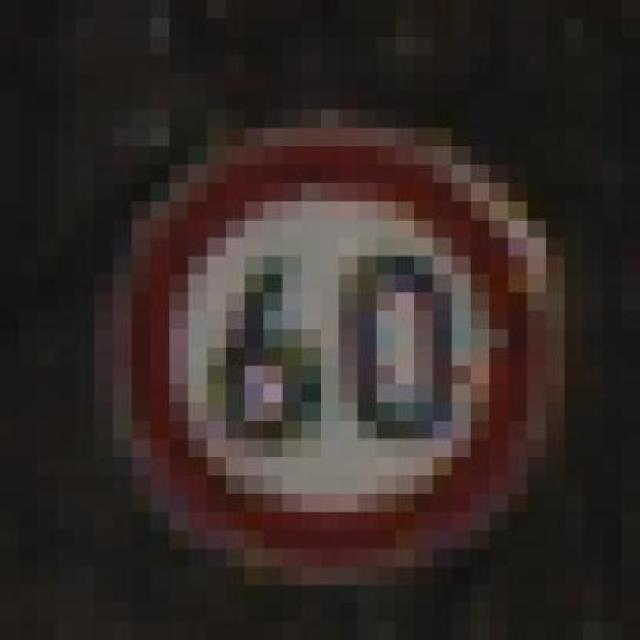forb_speed_over_60: (122, 127, 538, 558)
